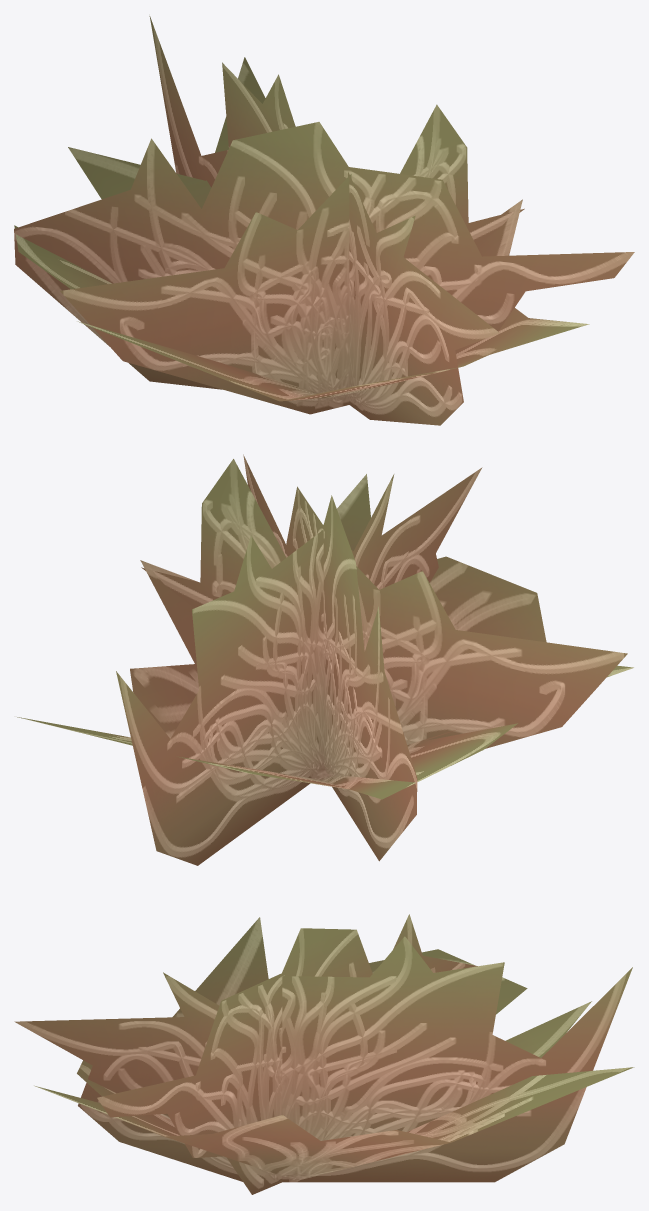
File: SM_grass_clump_3.fbx
3 renders of one model, top to bottom at view 1: azimuth 30°, elevation 25°; view 2: azimuth 150°, elevation 25°; view 3: azimuth 270°, elevation 25°, orthographic. The views are drawn at different scales.
Visible parts, largest first — view 1: SM_grass_clump_3_LOD0; view 2: SM_grass_clump_3_LOD0; view 3: SM_grass_clump_3_LOD0.
Boxes of the visible parts, x1=… form: SM_grass_clump_3_LOD0: x1=14, y1=16, x2=634, y2=425; SM_grass_clump_3_LOD0: x1=17, y1=454, x2=633, y2=865; SM_grass_clump_3_LOD0: x1=14, y1=914, x2=634, y2=1194.
Size of the model in its own units: 65.78 by 84.96 by 37.22.
Materials: 1 (1 with a texture image).
